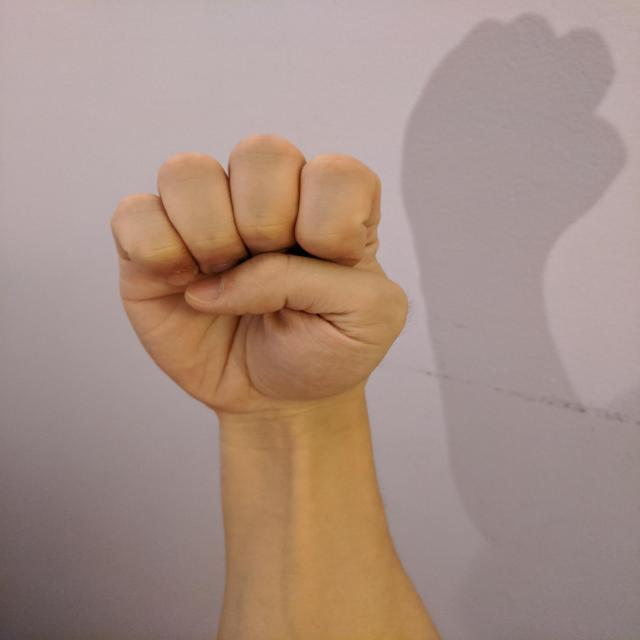E: (102, 130, 414, 416)
